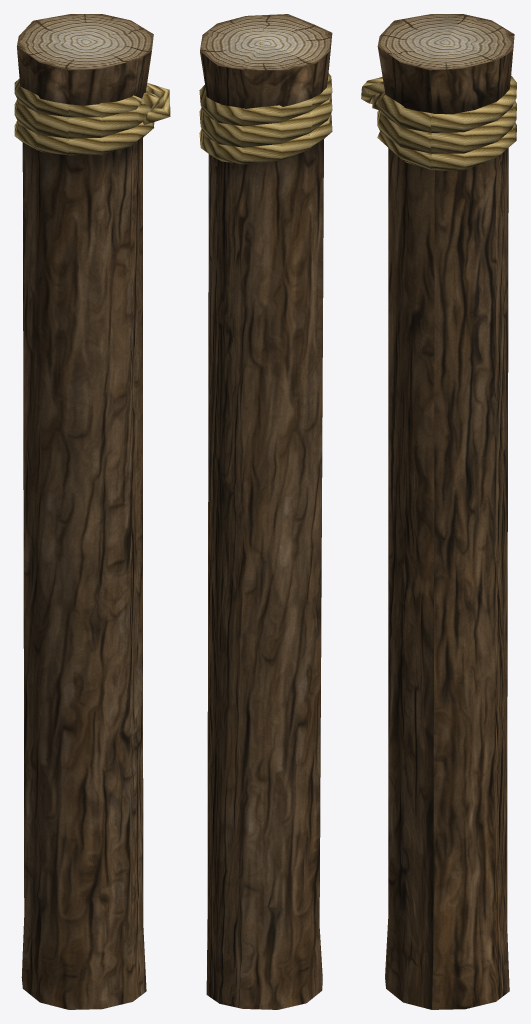
Rendered from FenceRopeEnd.obj.
The picture shows the model from 3 angles, left to right: view 1: azimuth 90°, elevation 25°; view 2: azimuth 150°, elevation 25°; view 3: azimuth 270°, elevation 25°; orthographic projection.
Parts seen in each view (by area): view 1: Mesh; view 2: Mesh; view 3: Mesh.
Boxes of the visible parts, x1,y1,x2,y2 form: Mesh: (14,14,170,1009); Mesh: (199,14,332,1009); Mesh: (361,14,516,1009).
Bounding box in the file's own units: 0.2554 × 2 × 0.2983.
